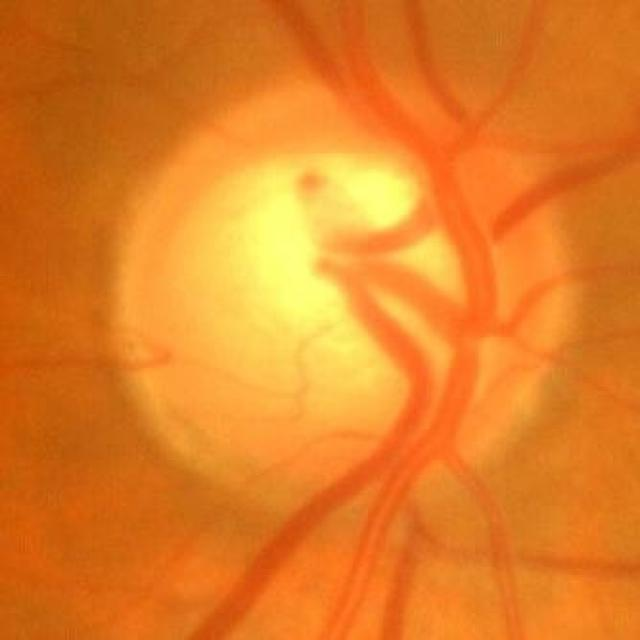OC: (246, 154, 469, 352)
OD: (115, 82, 563, 526)
